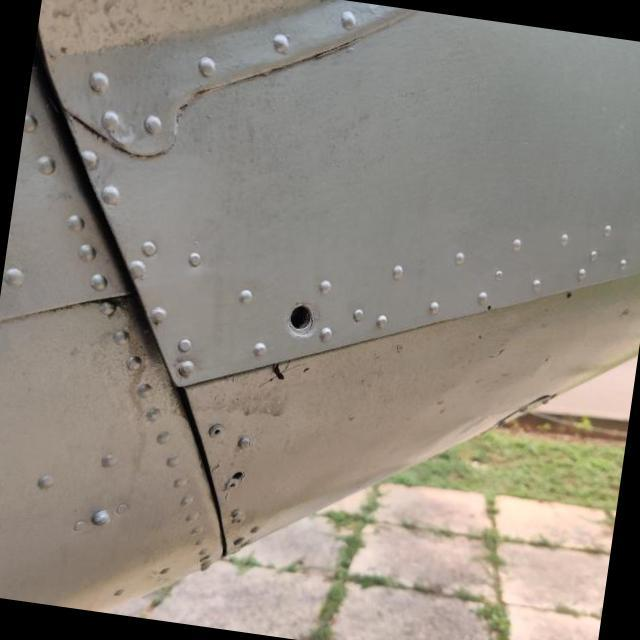Fastener Damage: (247, 258, 366, 378)
